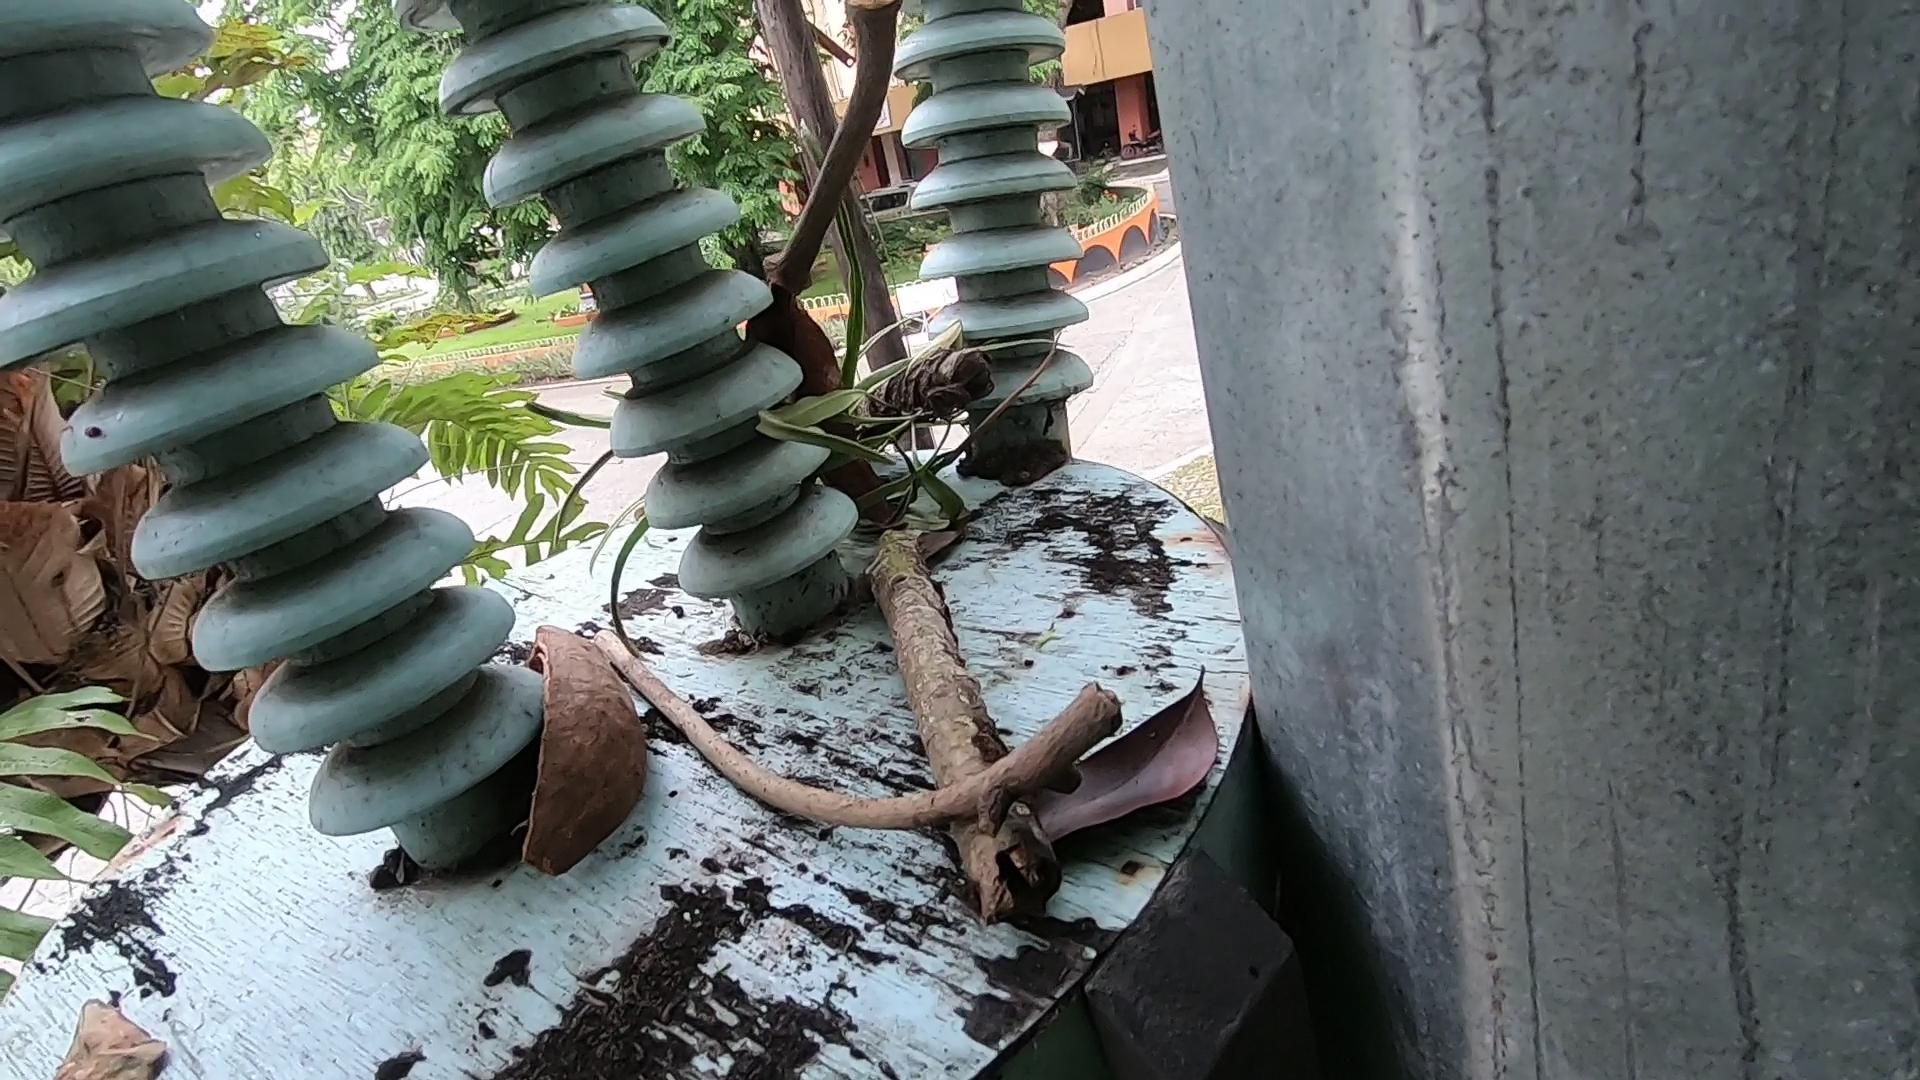branch with leaves: (760, 255, 1195, 1015)
leaf: (1018, 589, 1273, 891), (44, 990, 195, 1080)
mahogany fruit: (741, 253, 934, 584), (477, 597, 653, 940)
tree branch: (566, 574, 1208, 836), (712, 1, 1010, 405)
